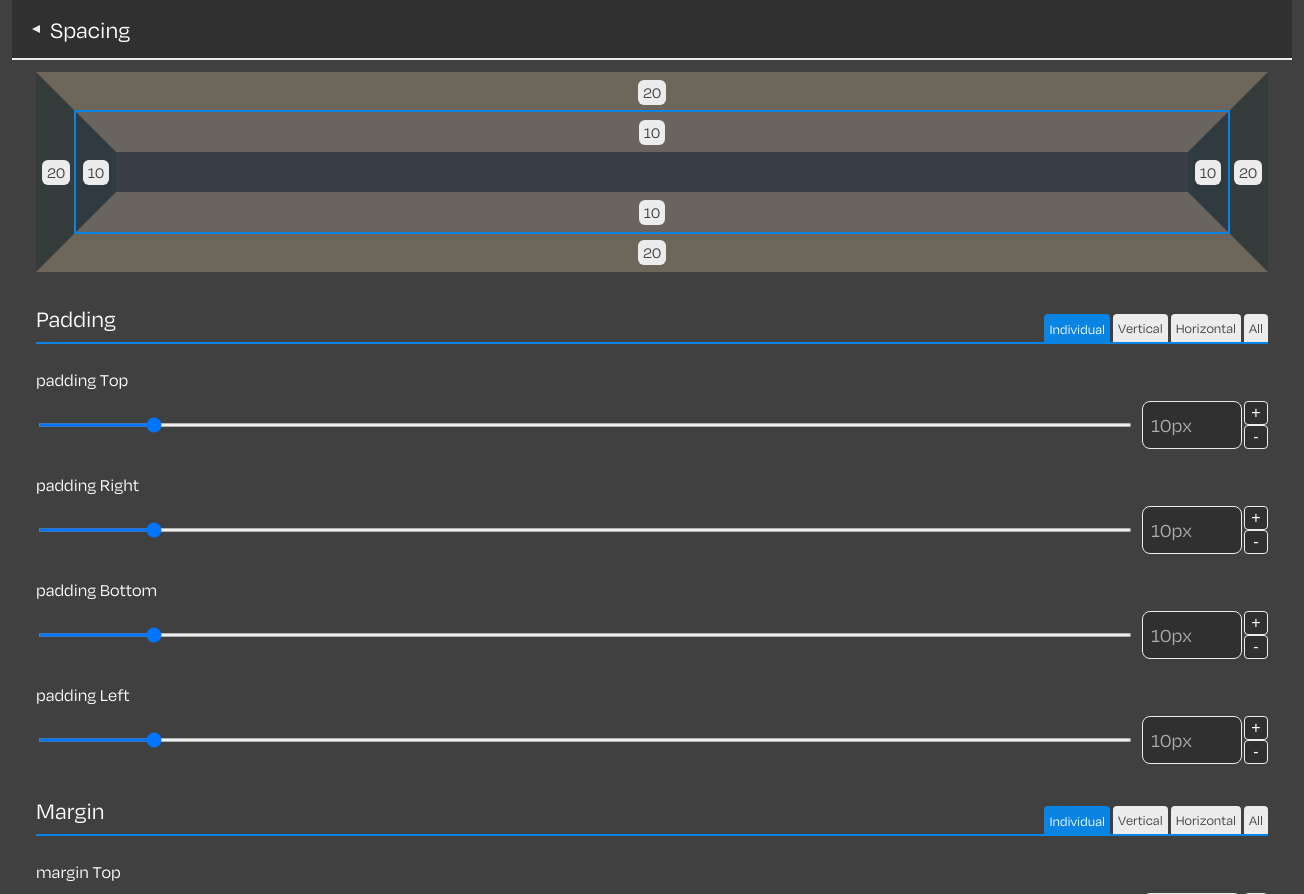
Test: SpacingArea 컴포넌트 › 마진 옵션을 선택하면 해당 컨트롤이 렌더링된다
What coordinates should you click on to do the following:
click the 2nd button "All"
I would click on:
 (1256, 820)
Its box is [1244,806,1268,834].
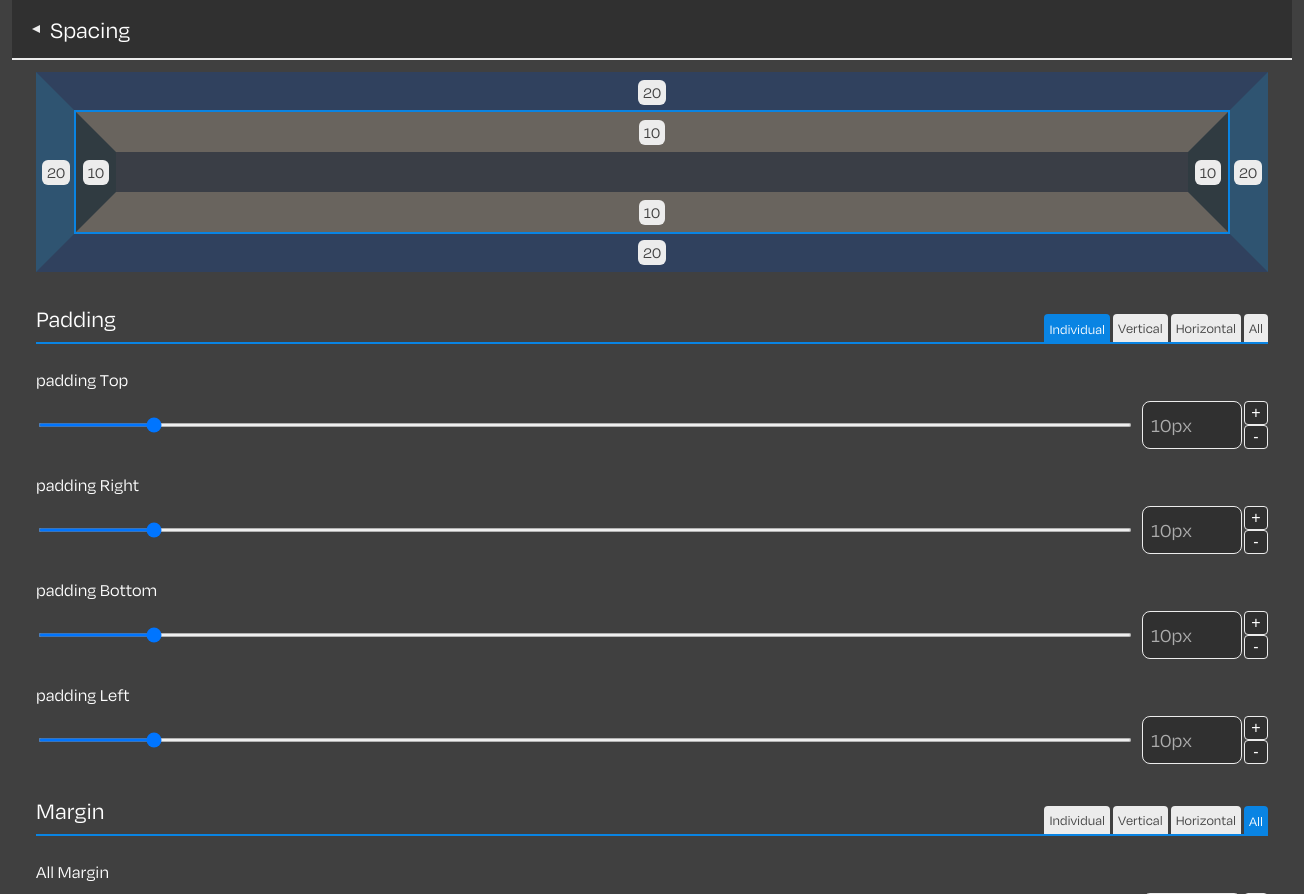
Check: the text "All Margin" is shown, box [36,860,109,883]
What coordinates should you click on to do the following:
click the 2nd button "Vertical"
I would click on:
 (1140, 820)
Its box is [1113,806,1168,834].
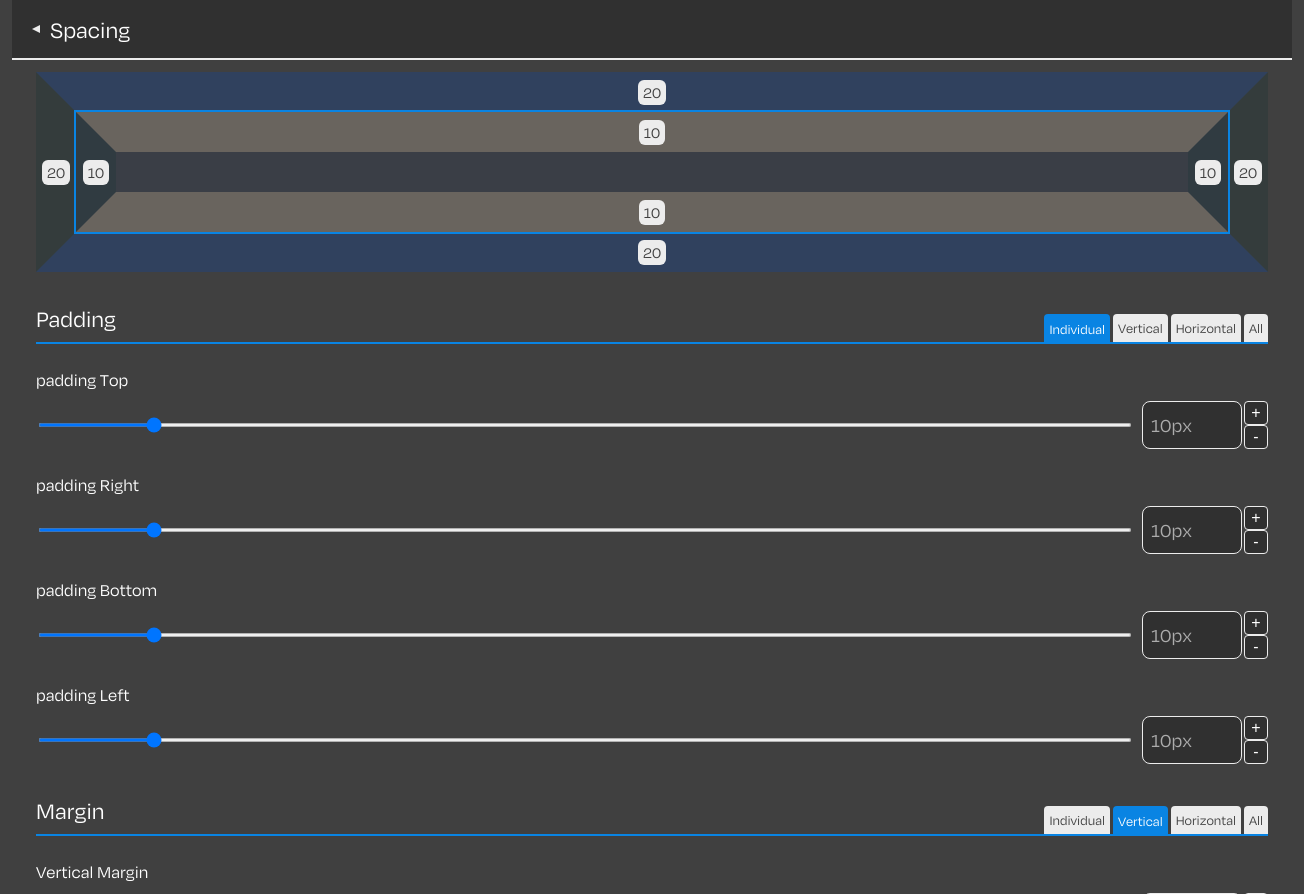
Check: the text "Vertical Margin" is shown, box [36,860,148,883]
What coordinates should you click on to do the following:
click the 2nd button "Horizontal"
I would click on:
 (1206, 820)
Its box is [1171,806,1241,834].
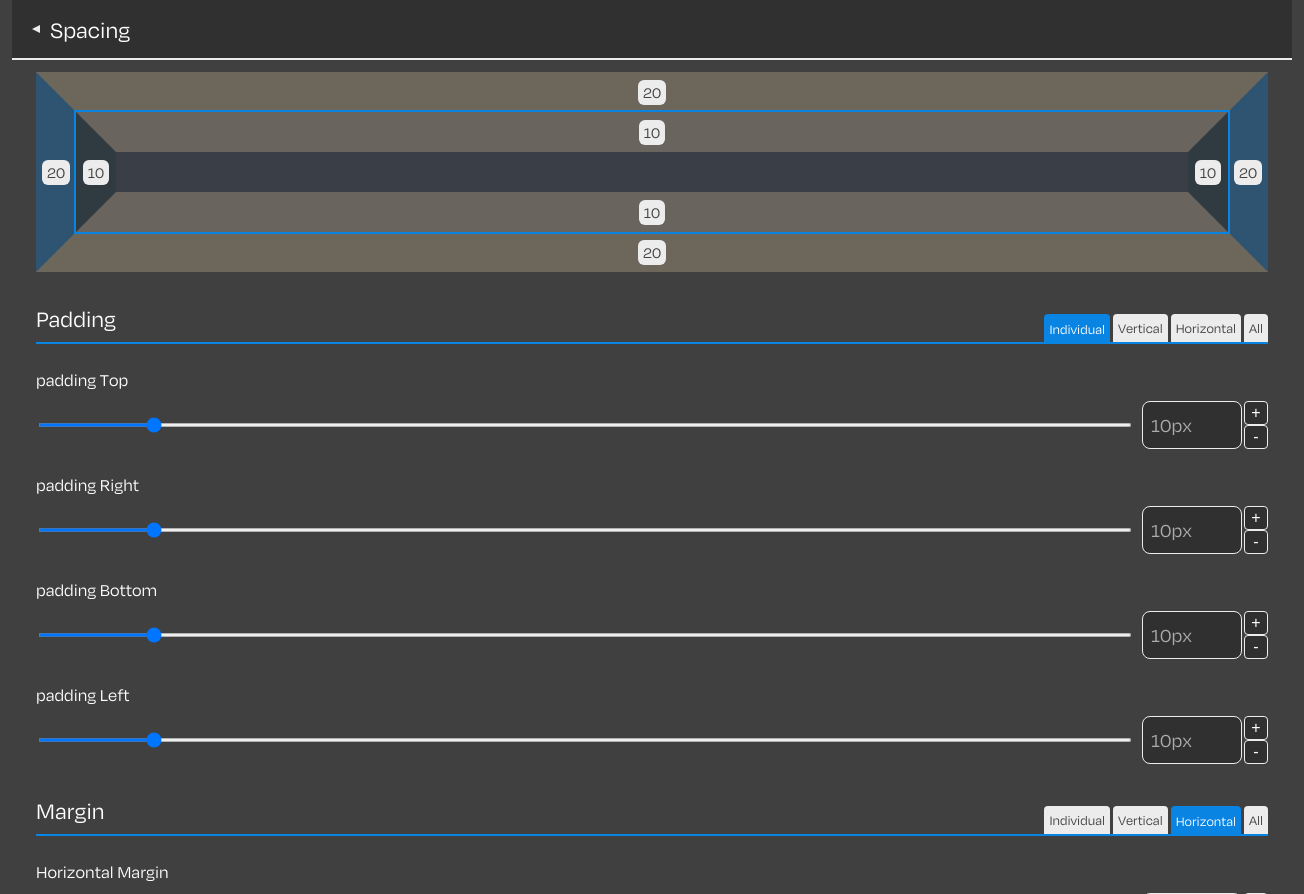
Check: the text "Horizontal Margin" is shown, box [36,860,168,883]
What coordinates should you click on to do the following:
click the 2nd button "Individual"
I would click on:
 (1077, 820)
Its box is [1044,806,1110,834].
(page scrolled)
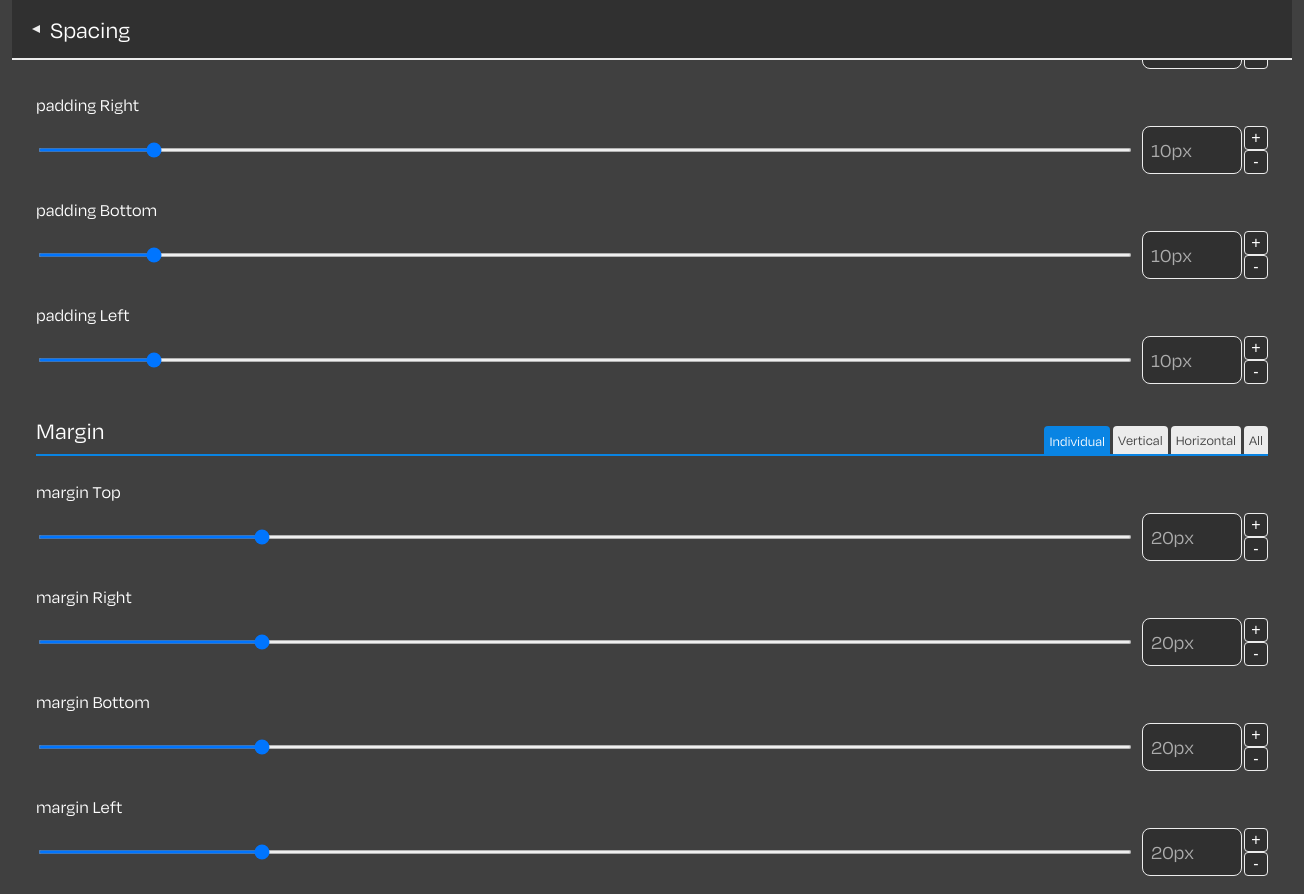
Check: the text "margin Top" is shown, box [36,480,121,503]
Check: the text "margin Right" is shown, box [36,585,132,608]
Check: the text "margin Bottom" is shown, box [36,690,150,713]
